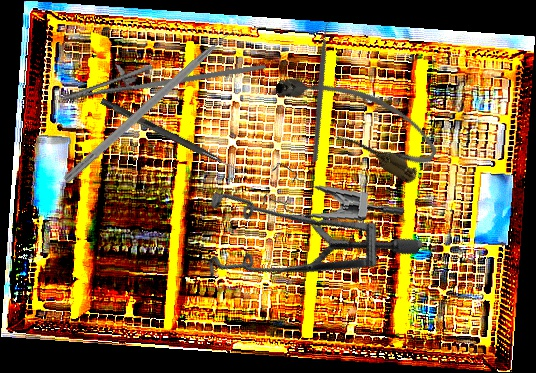Cannula: (268, 50, 445, 188)
Chopper: (62, 19, 252, 194), (259, 17, 391, 163)
Hook Surgical: (99, 98, 248, 176)
Needle Holder: (57, 23, 267, 127)
Speculum: (173, 123, 426, 367), (257, 148, 406, 233)
